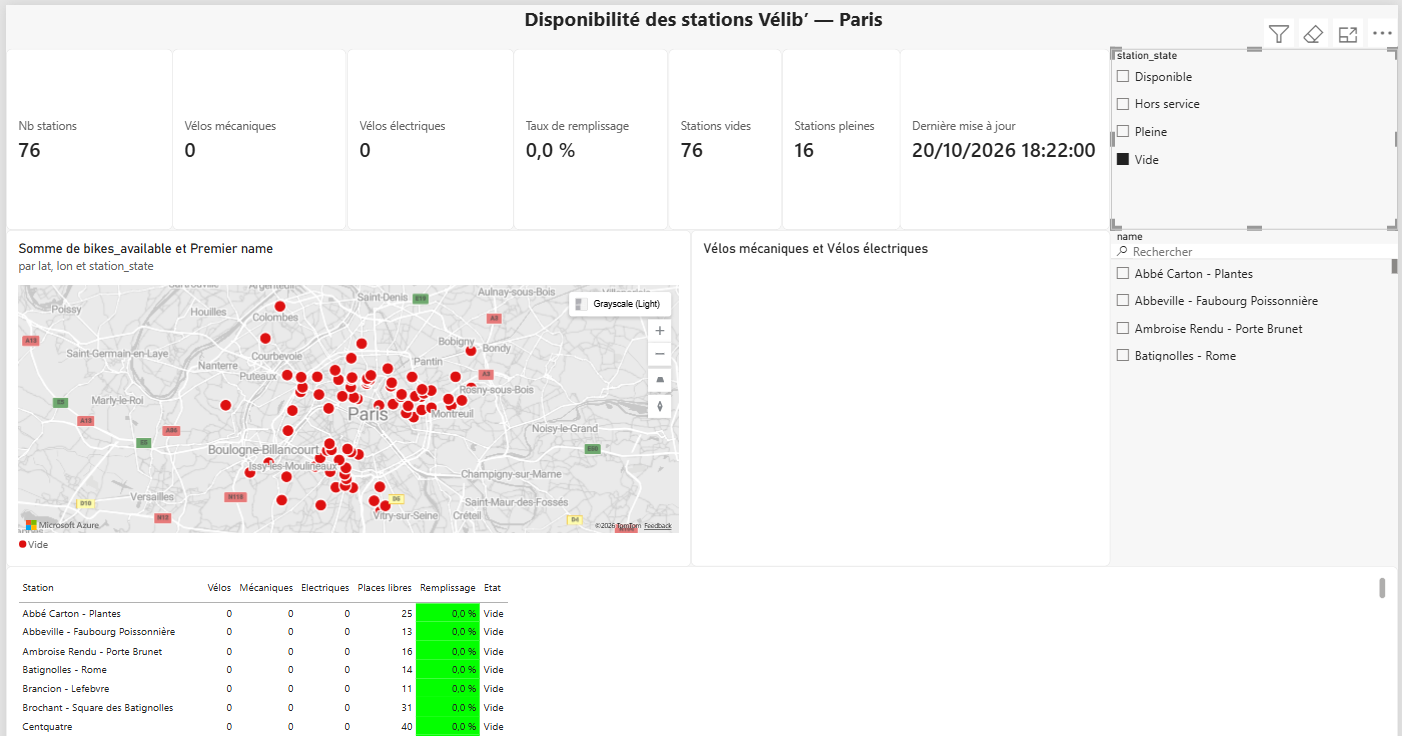

The dashboard page shown, as its layout file describes it:
{"tool":"powerbi","page":{"name":"Page 1","canvas":[1920,1080],"ordinal":0},"visuals":[{"type":"cardVisual","fields":{"Data":["v_latest_status.Vélos mécaniques"]},"box":[230,60,240,250],"z":0},{"type":"cardVisual","fields":{"Data":["v_latest_status.Nb stations"]},"box":[0,60,230,250],"z":1000},{"type":"cardVisual","fields":{"Data":["v_latest_status.Vélos électriques"]},"box":[470,60,230,250],"z":2000},{"type":"cardVisual","fields":{"Data":["v_latest_status.Taux de remplissage"]},"box":[700,60,213.3,250],"z":3000},{"type":"cardVisual","fields":{"Data":["v_latest_status.Stations vides"]},"box":[913.3,60,156.7,250],"z":4000},{"type":"cardVisual","fields":{"Data":["v_latest_status.Stations pleines"]},"box":[1070,60,163.3,250],"z":5000},{"type":"cardVisual","fields":{"Data":["v_latest_status.Dernière mise à jour"]},"box":[1233.3,60,290,250],"z":6000},{"type":"azureMap","fields":{"Series":["v_latest_status.station_state"],"Size":["Sum(v_latest_status.bikes_available)"],"X":["v_latest_status.lon"],"Y":["v_latest_status.lat"]},"box":[0,310,945,465],"z":7000},{"type":"donutChart","fields":{"Y":["v_latest_status.Vélos mécaniques","v_latest_status.Vélos électriques"]},"box":[945,310,578.6,464.3],"z":8000},{"type":"tableEx","fields":{"Values":["v_latest_status.name","Sum(v_latest_status.bikes_available)","Sum(v_latest_status.mechanical_bikes)","Sum(v_latest_status.ebikes)","Sum(v_latest_status.docks_available)","Sum(v_latest_status.fill_rate)","v_latest_status.station_state"]},"box":[0,775,1920,295],"z":9000},{"type":"slicer","fields":{"Values":["v_latest_status.station_state"]},"box":[1523.3,60,396.7,250],"z":10000},{"type":"slicer","fields":{"Values":["v_latest_status.name"]},"box":[1525,310,395,181.7],"z":11000},{"type":"textbox","box":[0,0,1916.7,60],"z":12000}]}

Visuals, with their boxes on the page's 1920x1080 design canvas (x1, y1, x2, y2). These are canvas units, not pixel positions in the 1402x736 screenshot, which may show the page scaled, cropped or inside an application window:
cardVisual - v_latest_status.Vélos mécaniques: select_region(230, 60, 470, 310)
cardVisual - v_latest_status.Nb stations: select_region(0, 60, 230, 310)
cardVisual - v_latest_status.Vélos électriques: select_region(470, 60, 700, 310)
cardVisual - v_latest_status.Taux de remplissage: select_region(700, 60, 913, 310)
cardVisual - v_latest_status.Stations vides: select_region(913, 60, 1070, 310)
cardVisual - v_latest_status.Stations pleines: select_region(1070, 60, 1233, 310)
cardVisual - v_latest_status.Dernière mise à jour: select_region(1233, 60, 1523, 310)
azureMap - v_latest_status.station_state x Sum(v_latest_status.bikes_available): select_region(0, 310, 945, 775)
donutChart - v_latest_status.Vélos mécaniques x v_latest_status.Vélos électriques: select_region(945, 310, 1524, 774)
tableEx - v_latest_status.name x Sum(v_latest_status.bikes_available): select_region(0, 775, 1920, 1070)
slicer - v_latest_status.station_state: select_region(1523, 60, 1920, 310)
slicer - v_latest_status.name: select_region(1525, 310, 1920, 492)
textbox: select_region(0, 0, 1917, 60)
